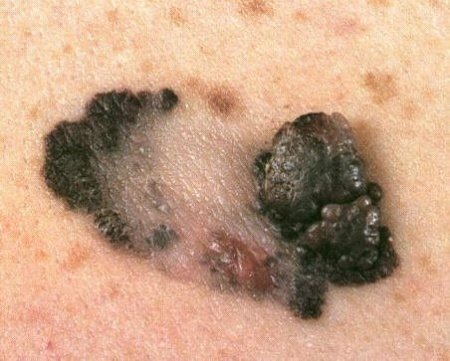melanoma: (66, 62, 418, 322)
